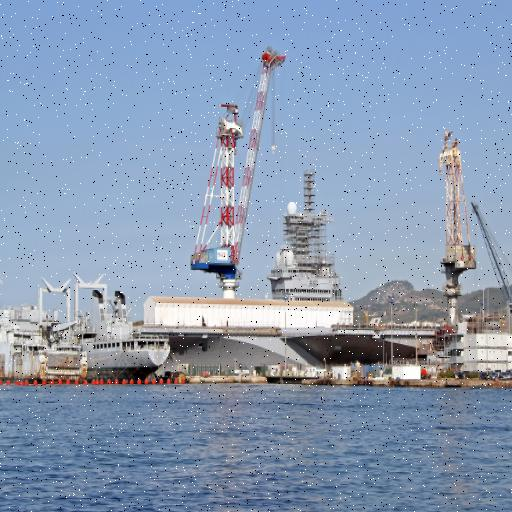Portanaves: (115, 307, 442, 382), (1, 386, 110, 417), (63, 386, 111, 396)
